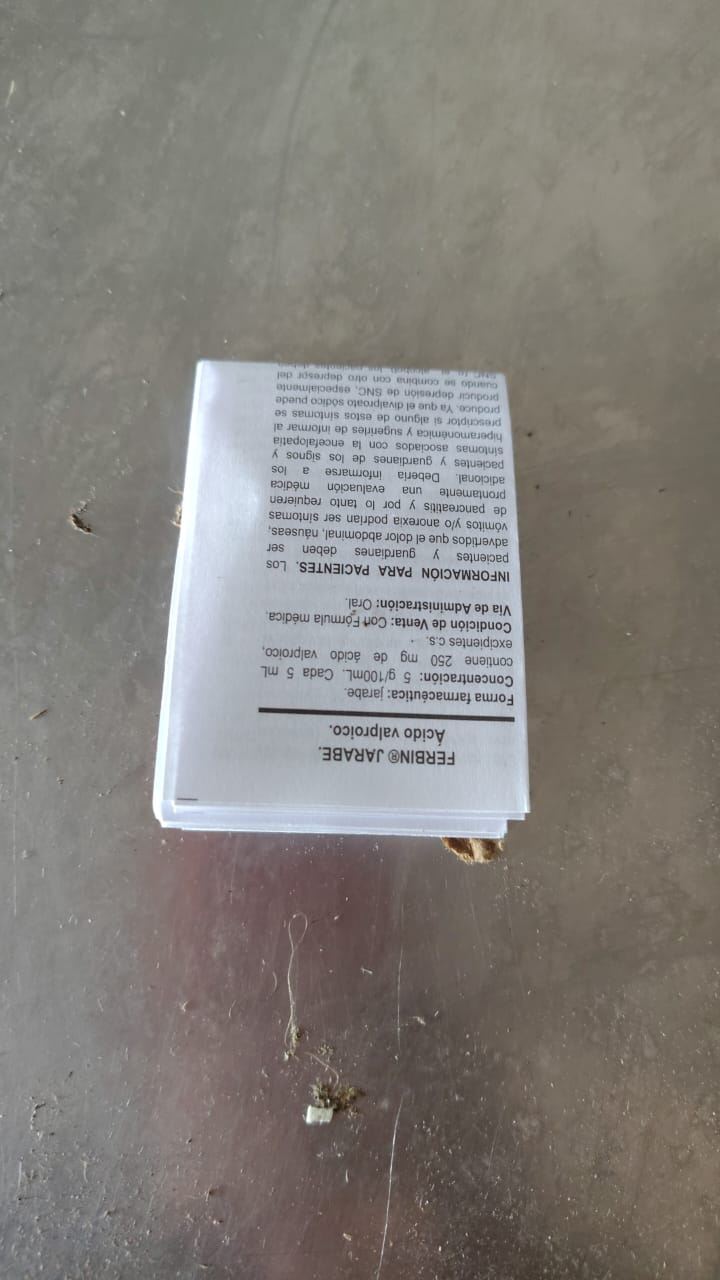Papel: (150, 357, 528, 841)
